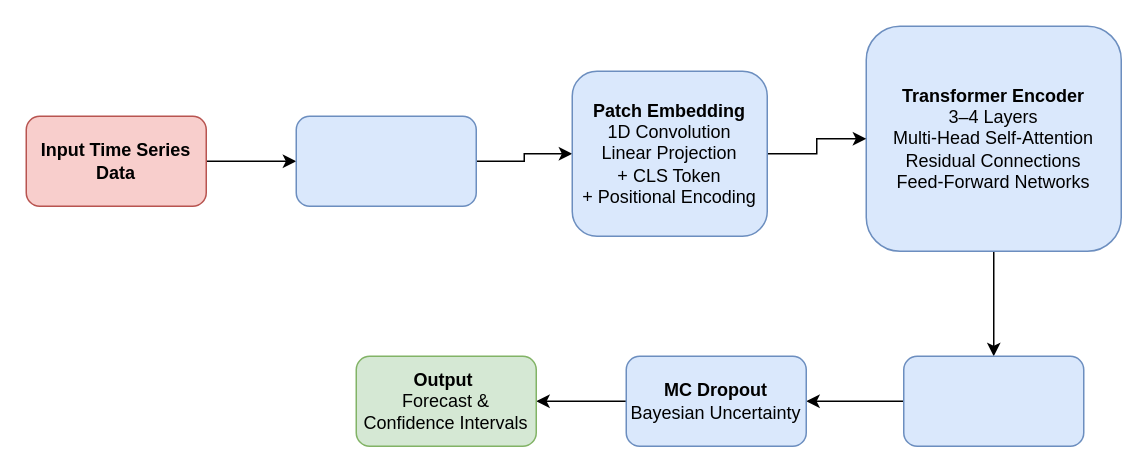
The diagram is 1148 pixels wide and 473 high, and some of its shapes have lost their labels. Each missing label, with the centre of its shape:
"Forecasting Head 36-Week Horizon" belongs at pixel 993 400.
"Temporal Patching" belongs at pixel 385 160.
